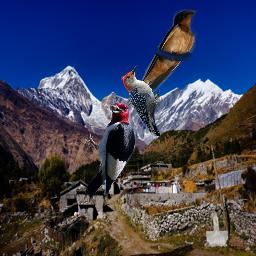Swallow: (122, 8, 198, 107)
Woodpecker: (80, 96, 136, 206), (121, 65, 160, 136)
